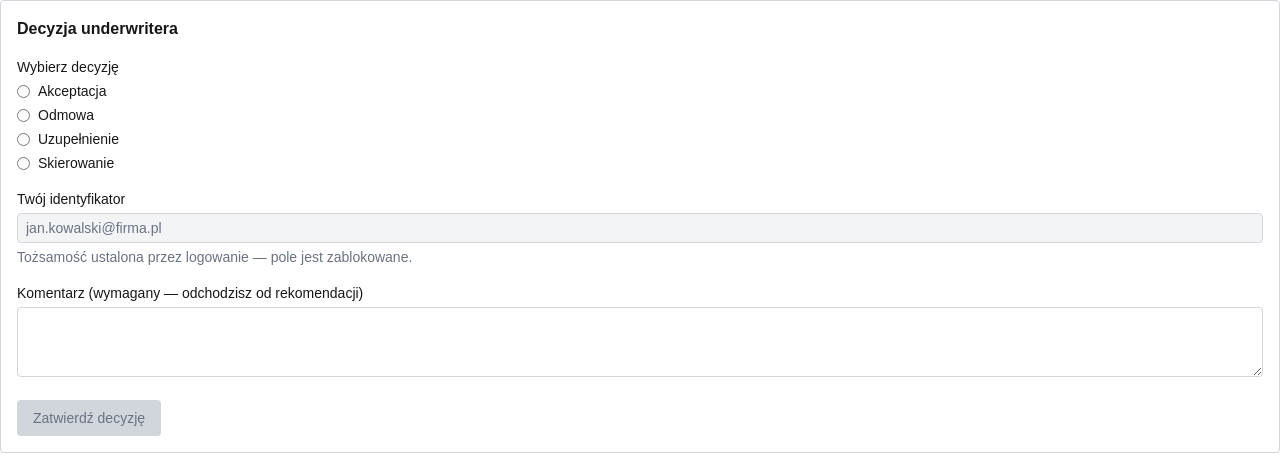
Test case: DecisionForm › z tozsamoscia z Easy Auth (e-mail z '@') przycisk jest aktywny po wybraniu decyzji
Expected: the field labelled "Twój identyfikator" holds "jan.kowalski@firma.pl", x1=17 y1=213 x2=1263 y2=243
Click the radio button labelled "Skierowanie". click: point(24, 163)
box: x1=17 y1=156 x2=30 y2=170
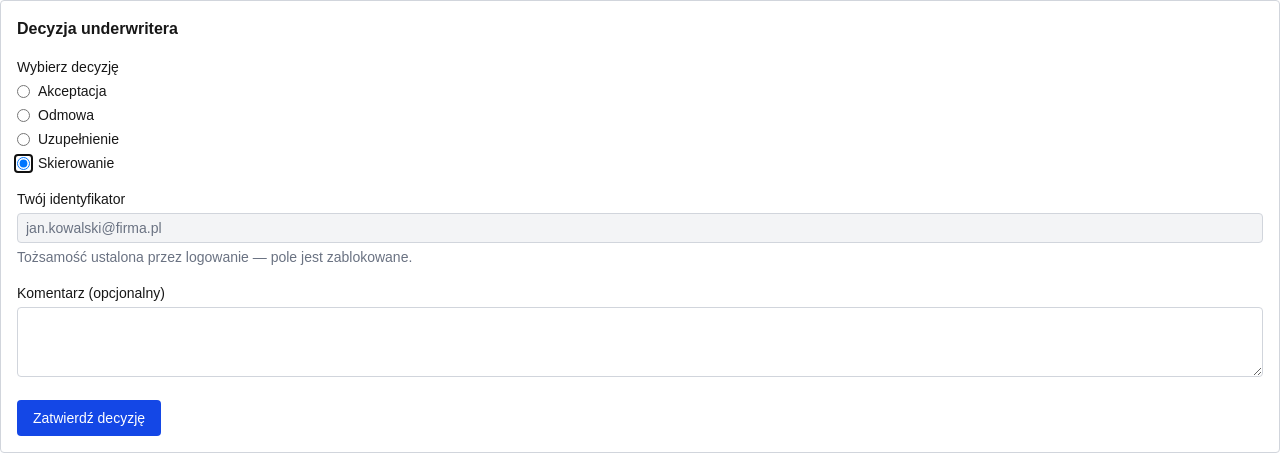
Now the button "Zatwierdź decyzję" is enabled, box x1=17 y1=400 x2=161 y2=436
